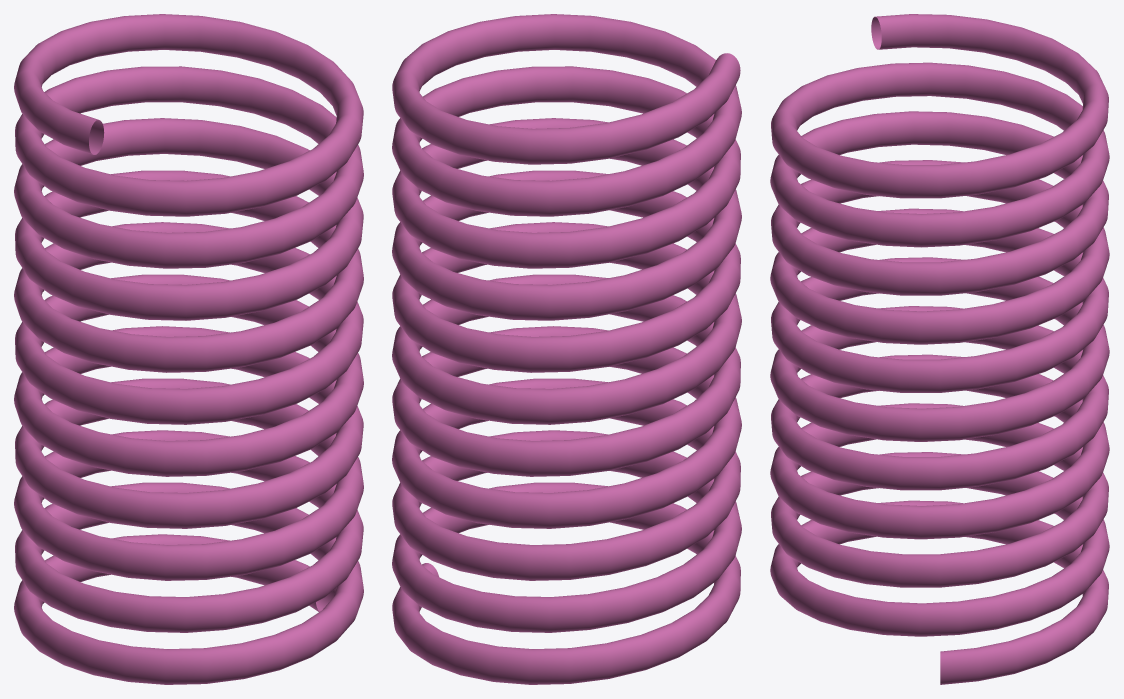
The model's file is Mola.fbx.
3 renders of one model, left to right at view 1: azimuth 30°, elevation 25°; view 2: azimuth 150°, elevation 25°; view 3: azimuth 270°, elevation 25°, orthographic. The views are drawn at different scales.
Parts seen in each view (by area): view 1: Circle; view 2: Circle; view 3: Circle.
Part boxes in pixels (left/top/right/bottom): Circle: left=14, top=14, right=363, bottom=684; Circle: left=392, top=14, right=741, bottom=684; Circle: left=770, top=14, right=1109, bottom=684.
Size of the model in its own units: 9.15 by 17.06 by 9.61.
